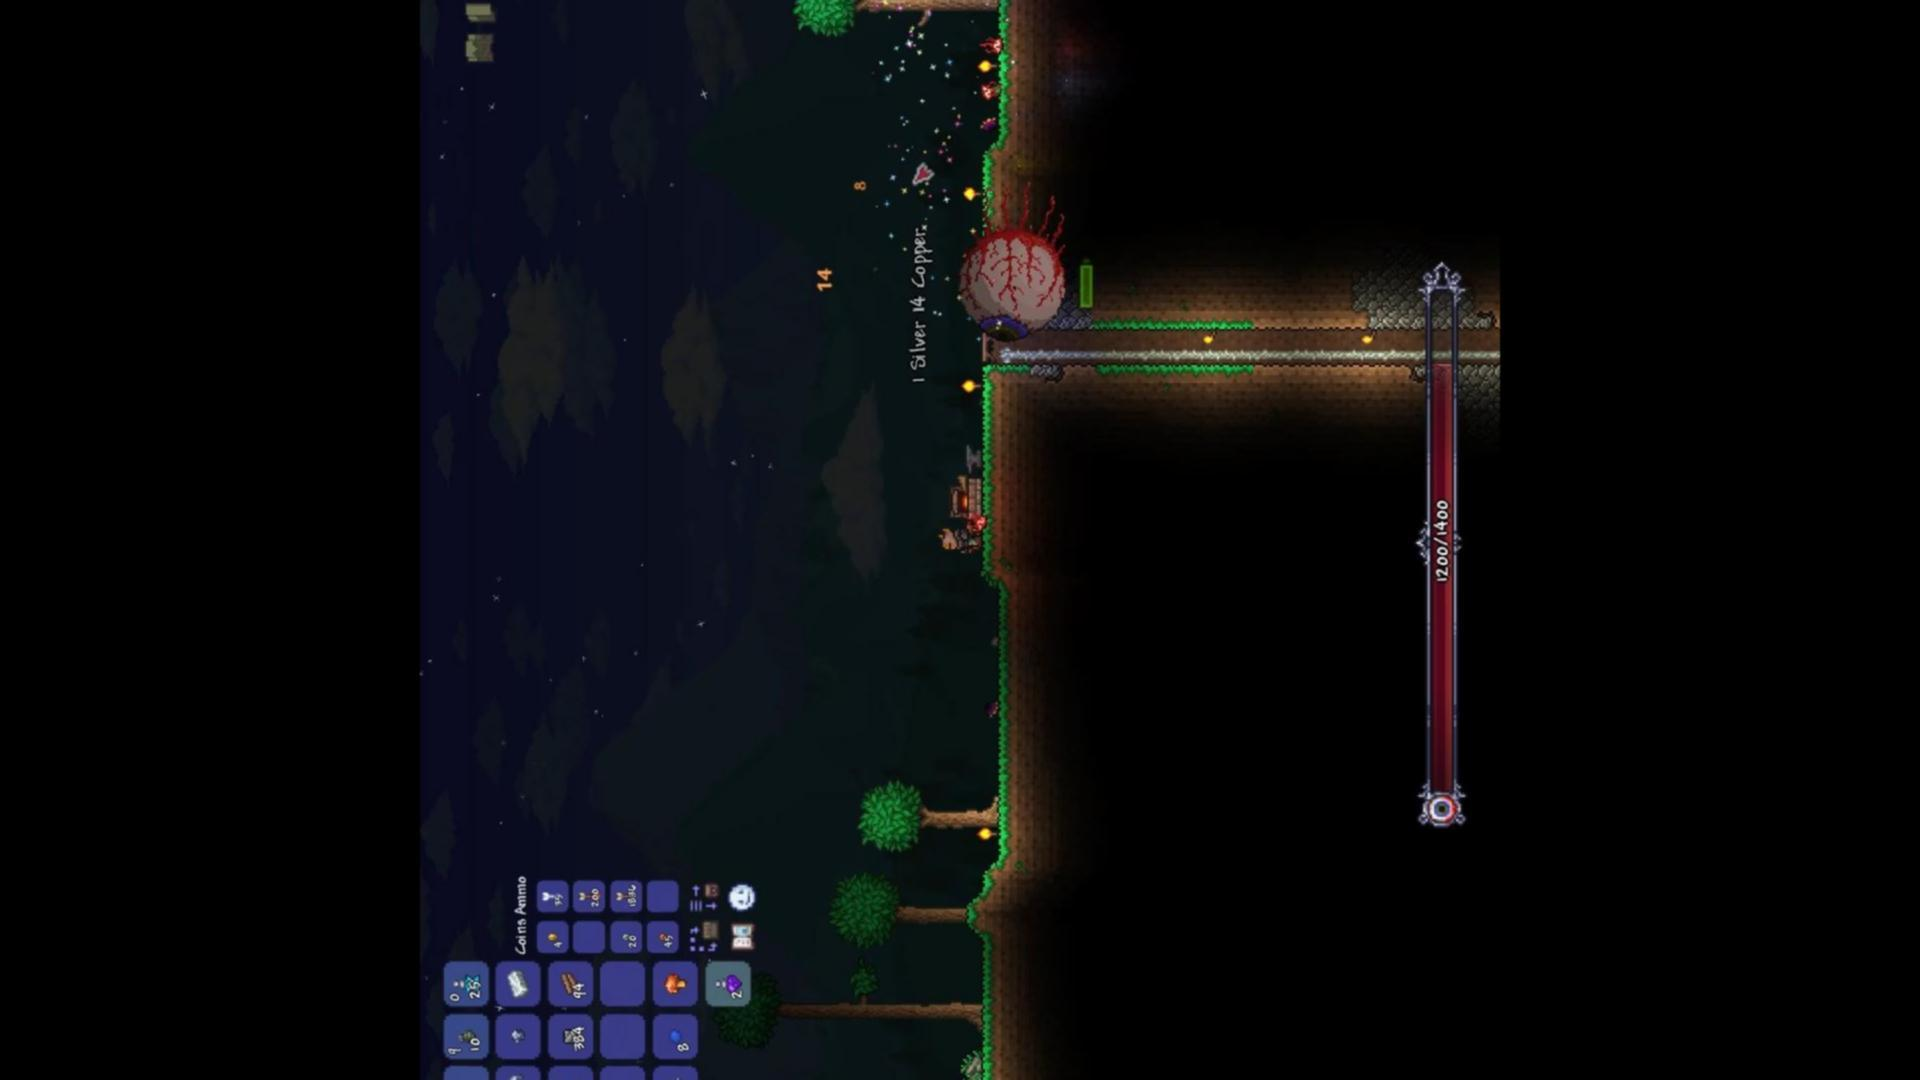eyeC: (957, 187, 1073, 347)
